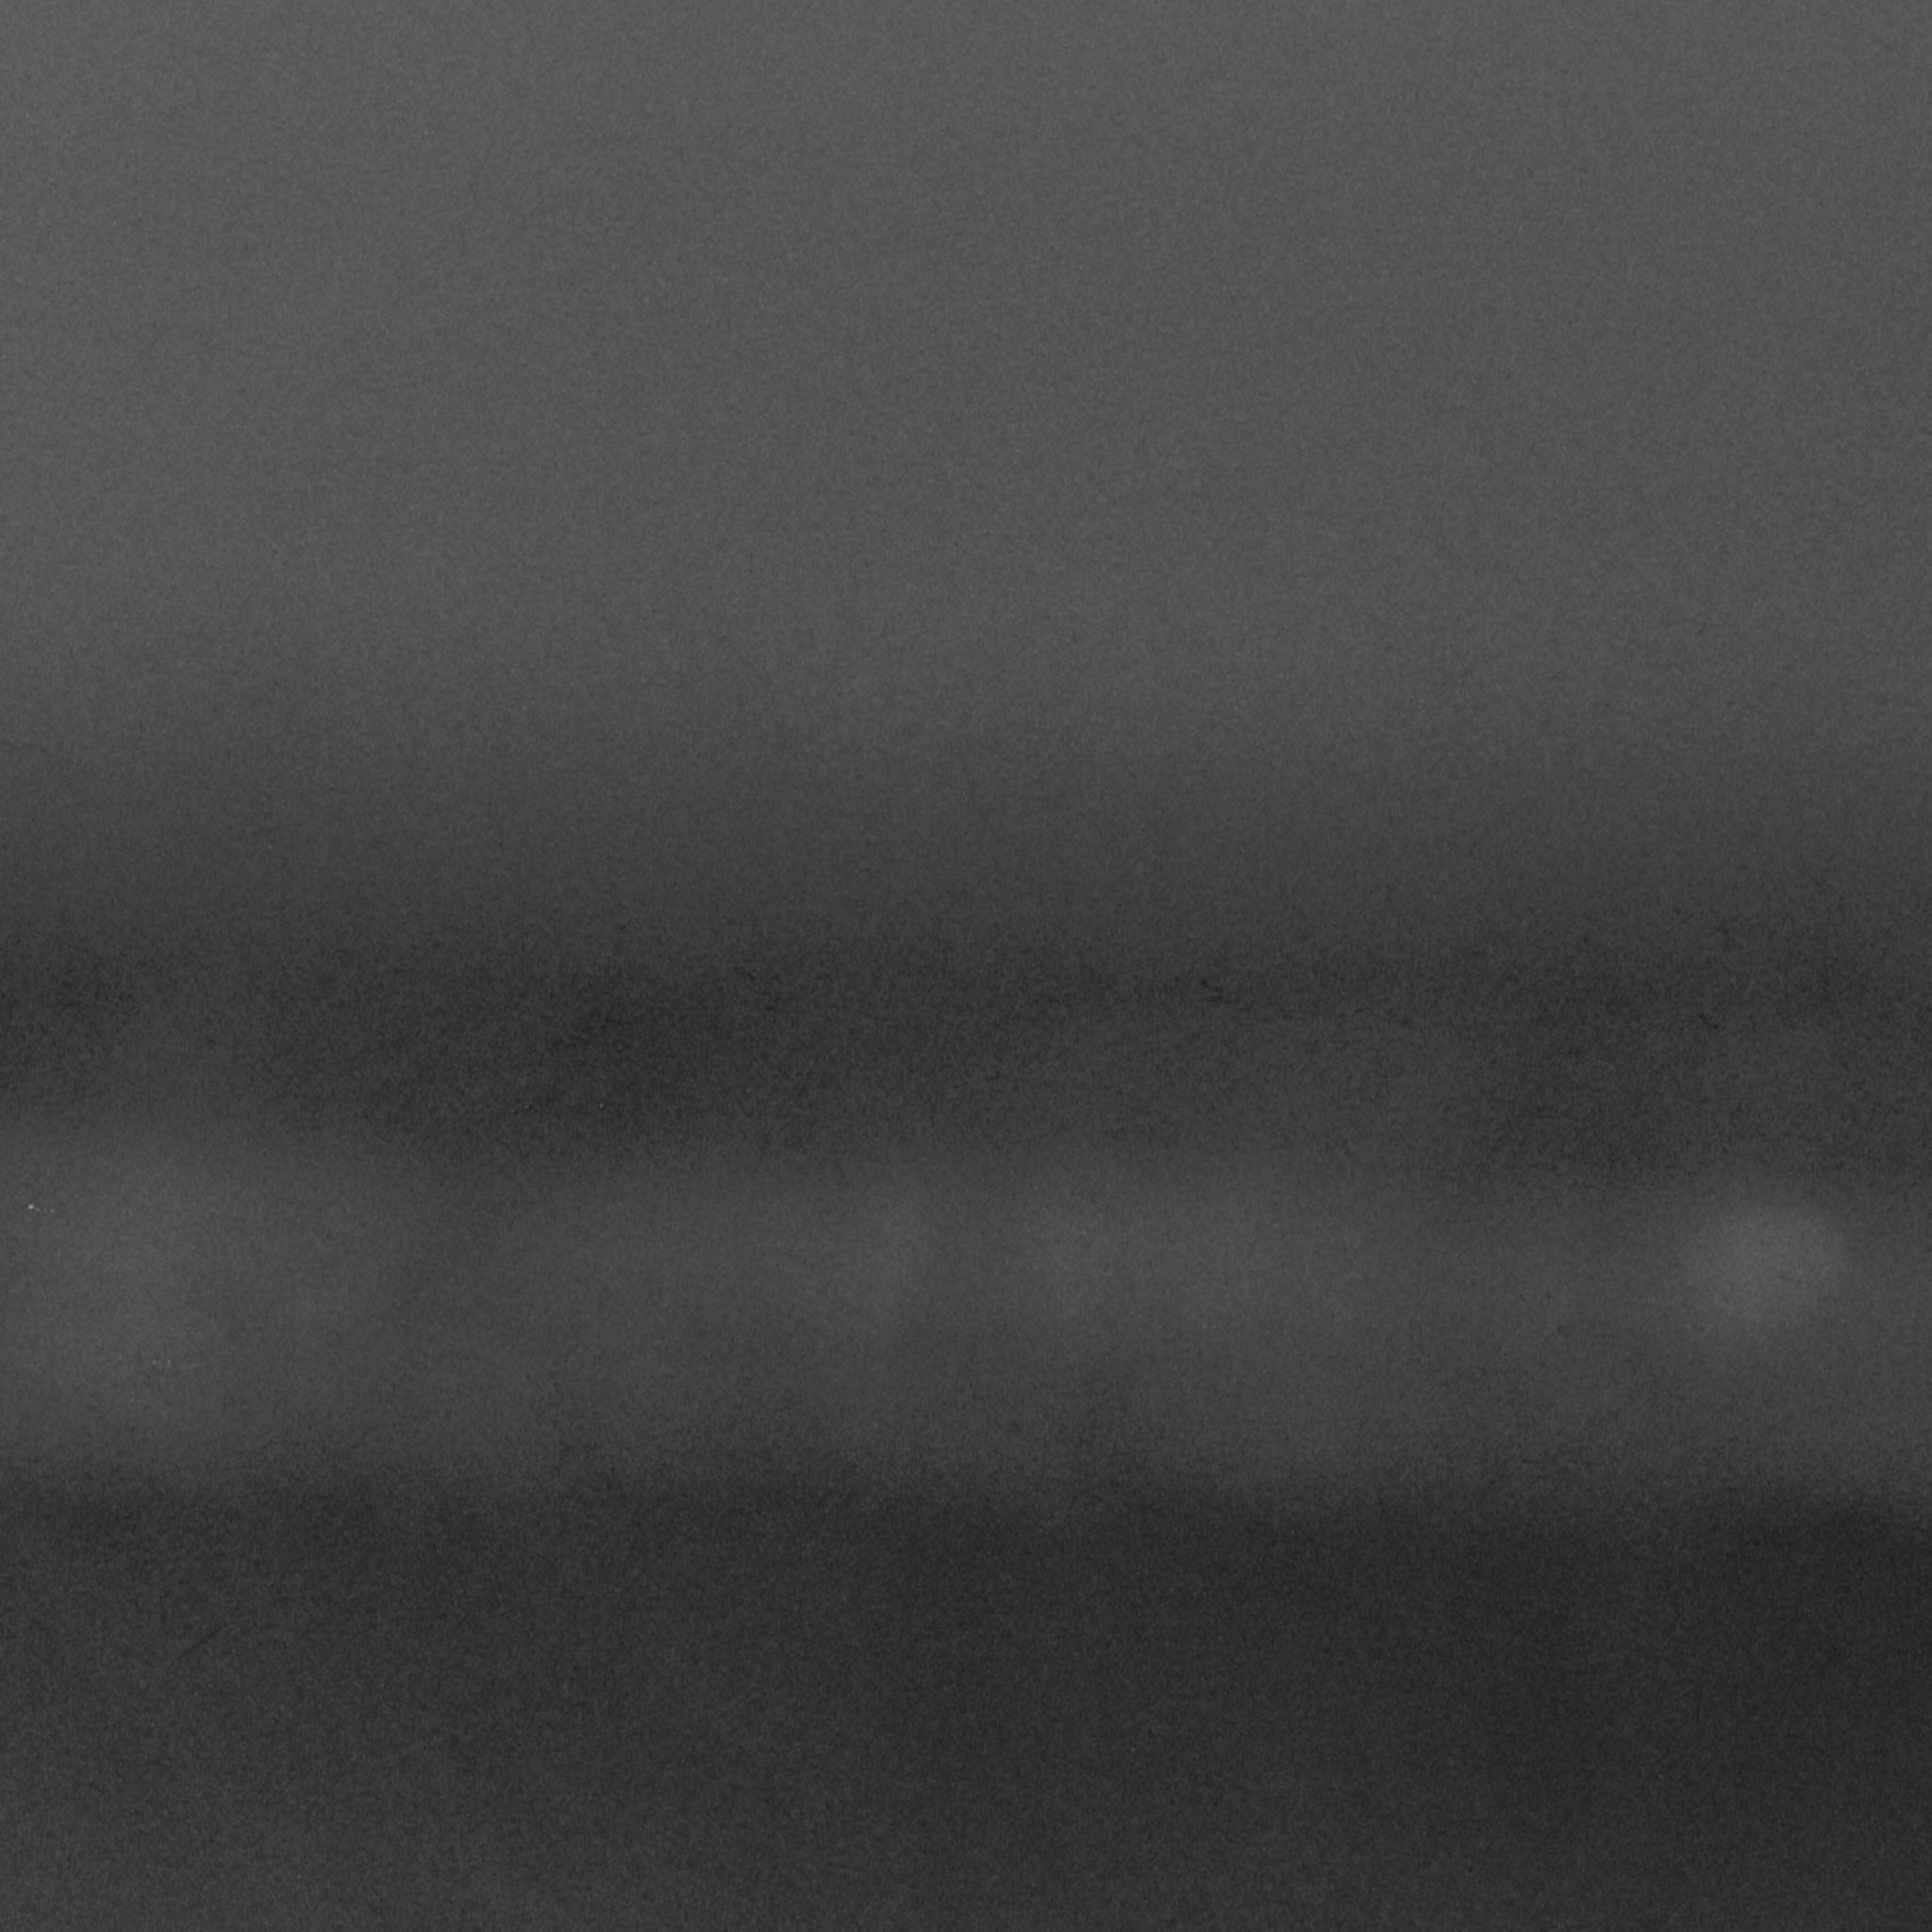PO: (1187, 966, 1224, 1001)
Solda Ruim: (136, 1598, 272, 1691)
